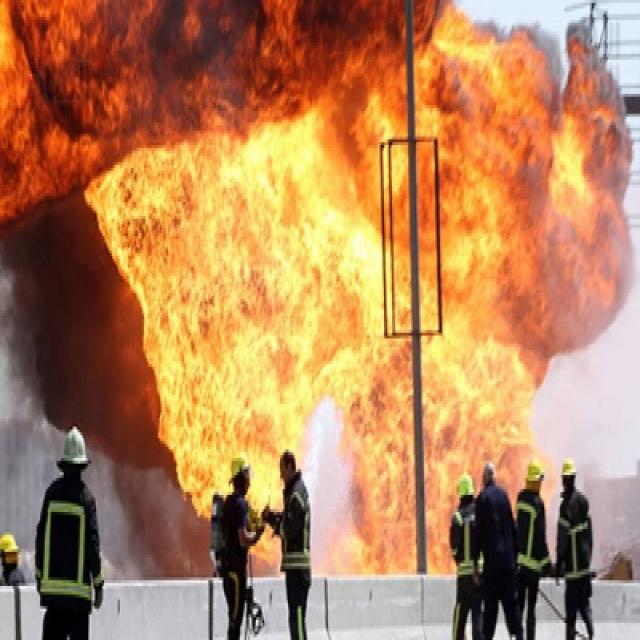Fire: (86, 0, 607, 616)
